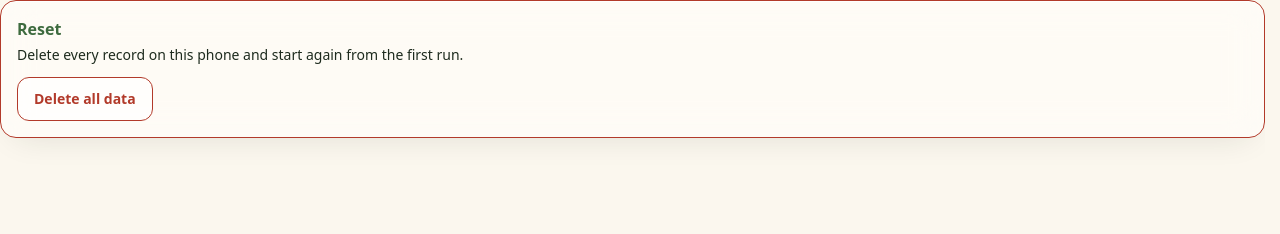
Scenario: the reset confirmation › can be cancelled
Click the button "Delete all data". click: (85, 99)
box: [17,77,153,121]
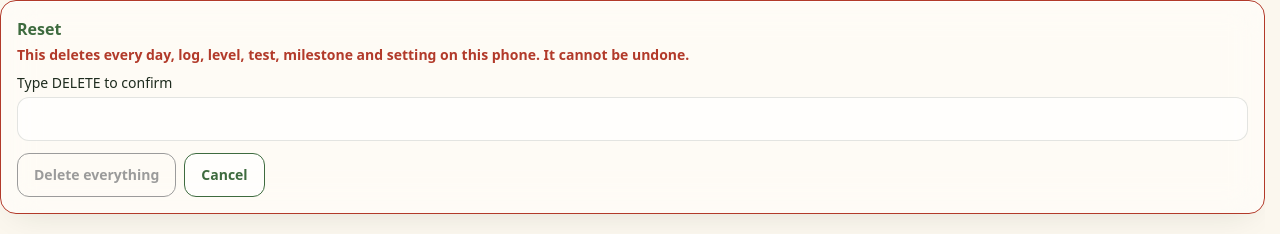
Click the button "Cancel". click: (224, 175)
box: [184,153,265,197]
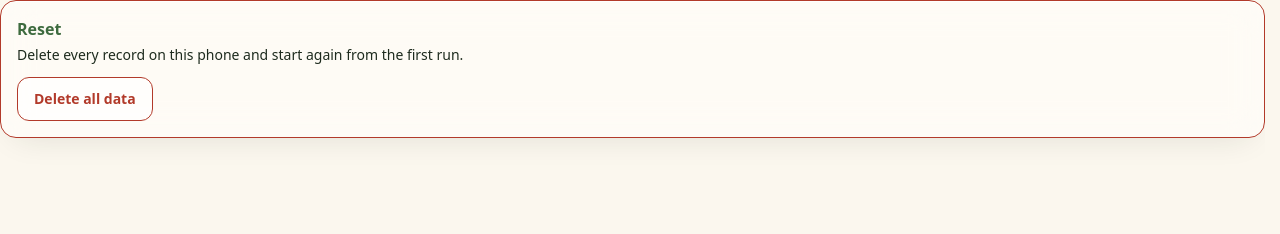
Now the button "Delete all data" is shown, box [17,77,153,121]
